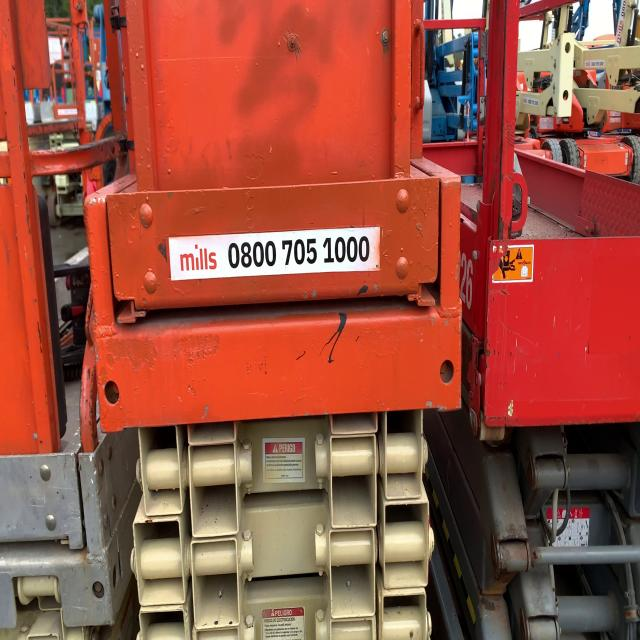Adesivo Longo: (168, 222, 383, 286)
